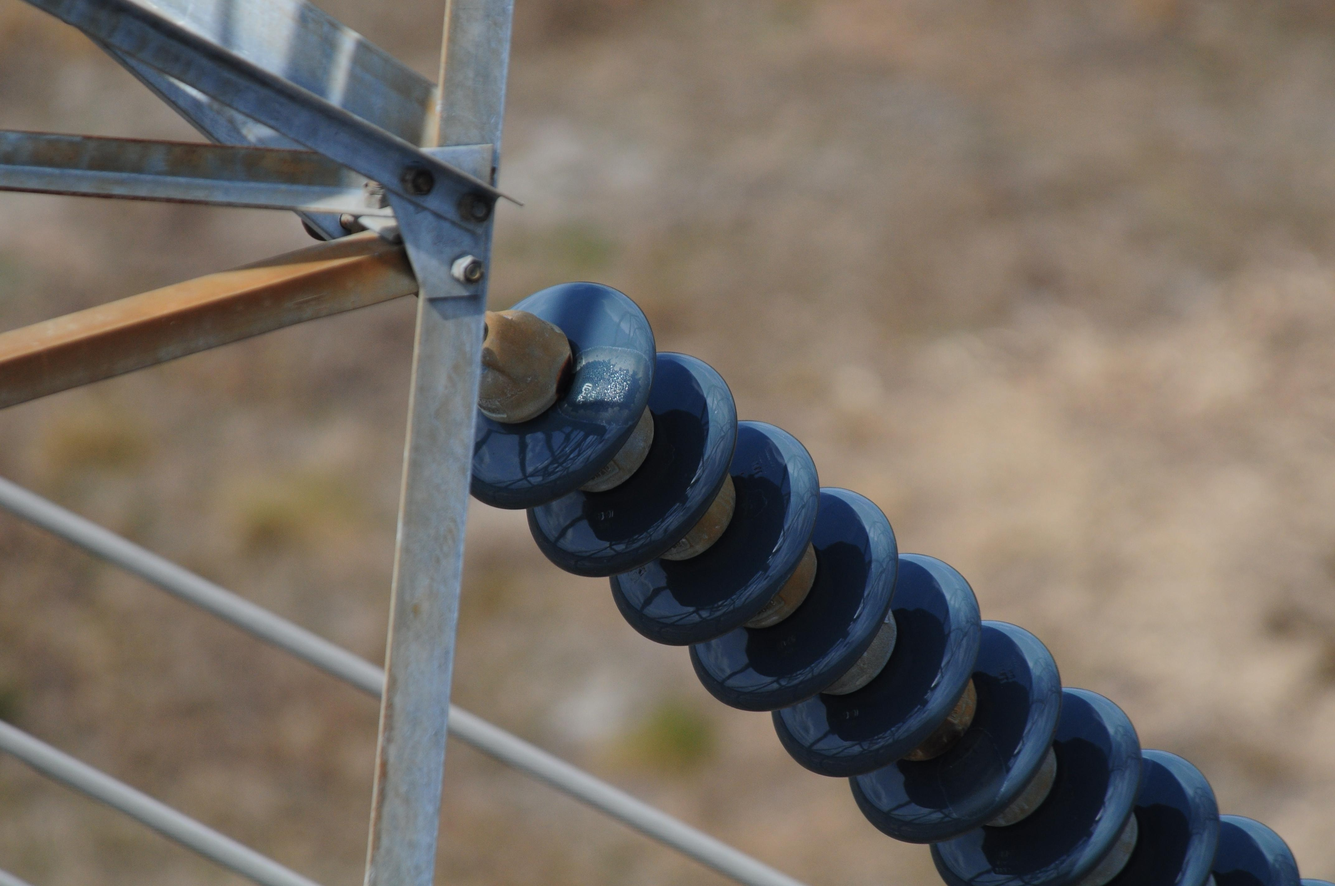Flashover: (545, 336, 658, 424)
insulator: (476, 287, 1324, 886)
